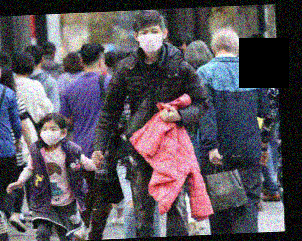with_mask: (135, 26, 165, 51), (38, 124, 61, 146)
